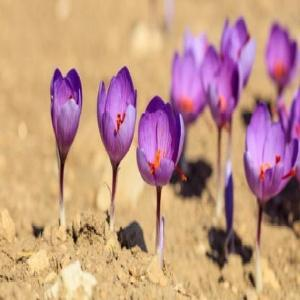Saffron: (244, 105, 300, 205), (137, 100, 185, 192), (94, 68, 136, 169), (52, 61, 81, 163), (263, 20, 299, 91), (206, 53, 237, 132)
